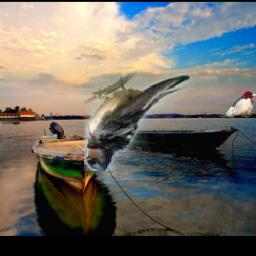Swallow: (83, 74, 216, 172)
Woodpecker: (219, 91, 256, 118)
